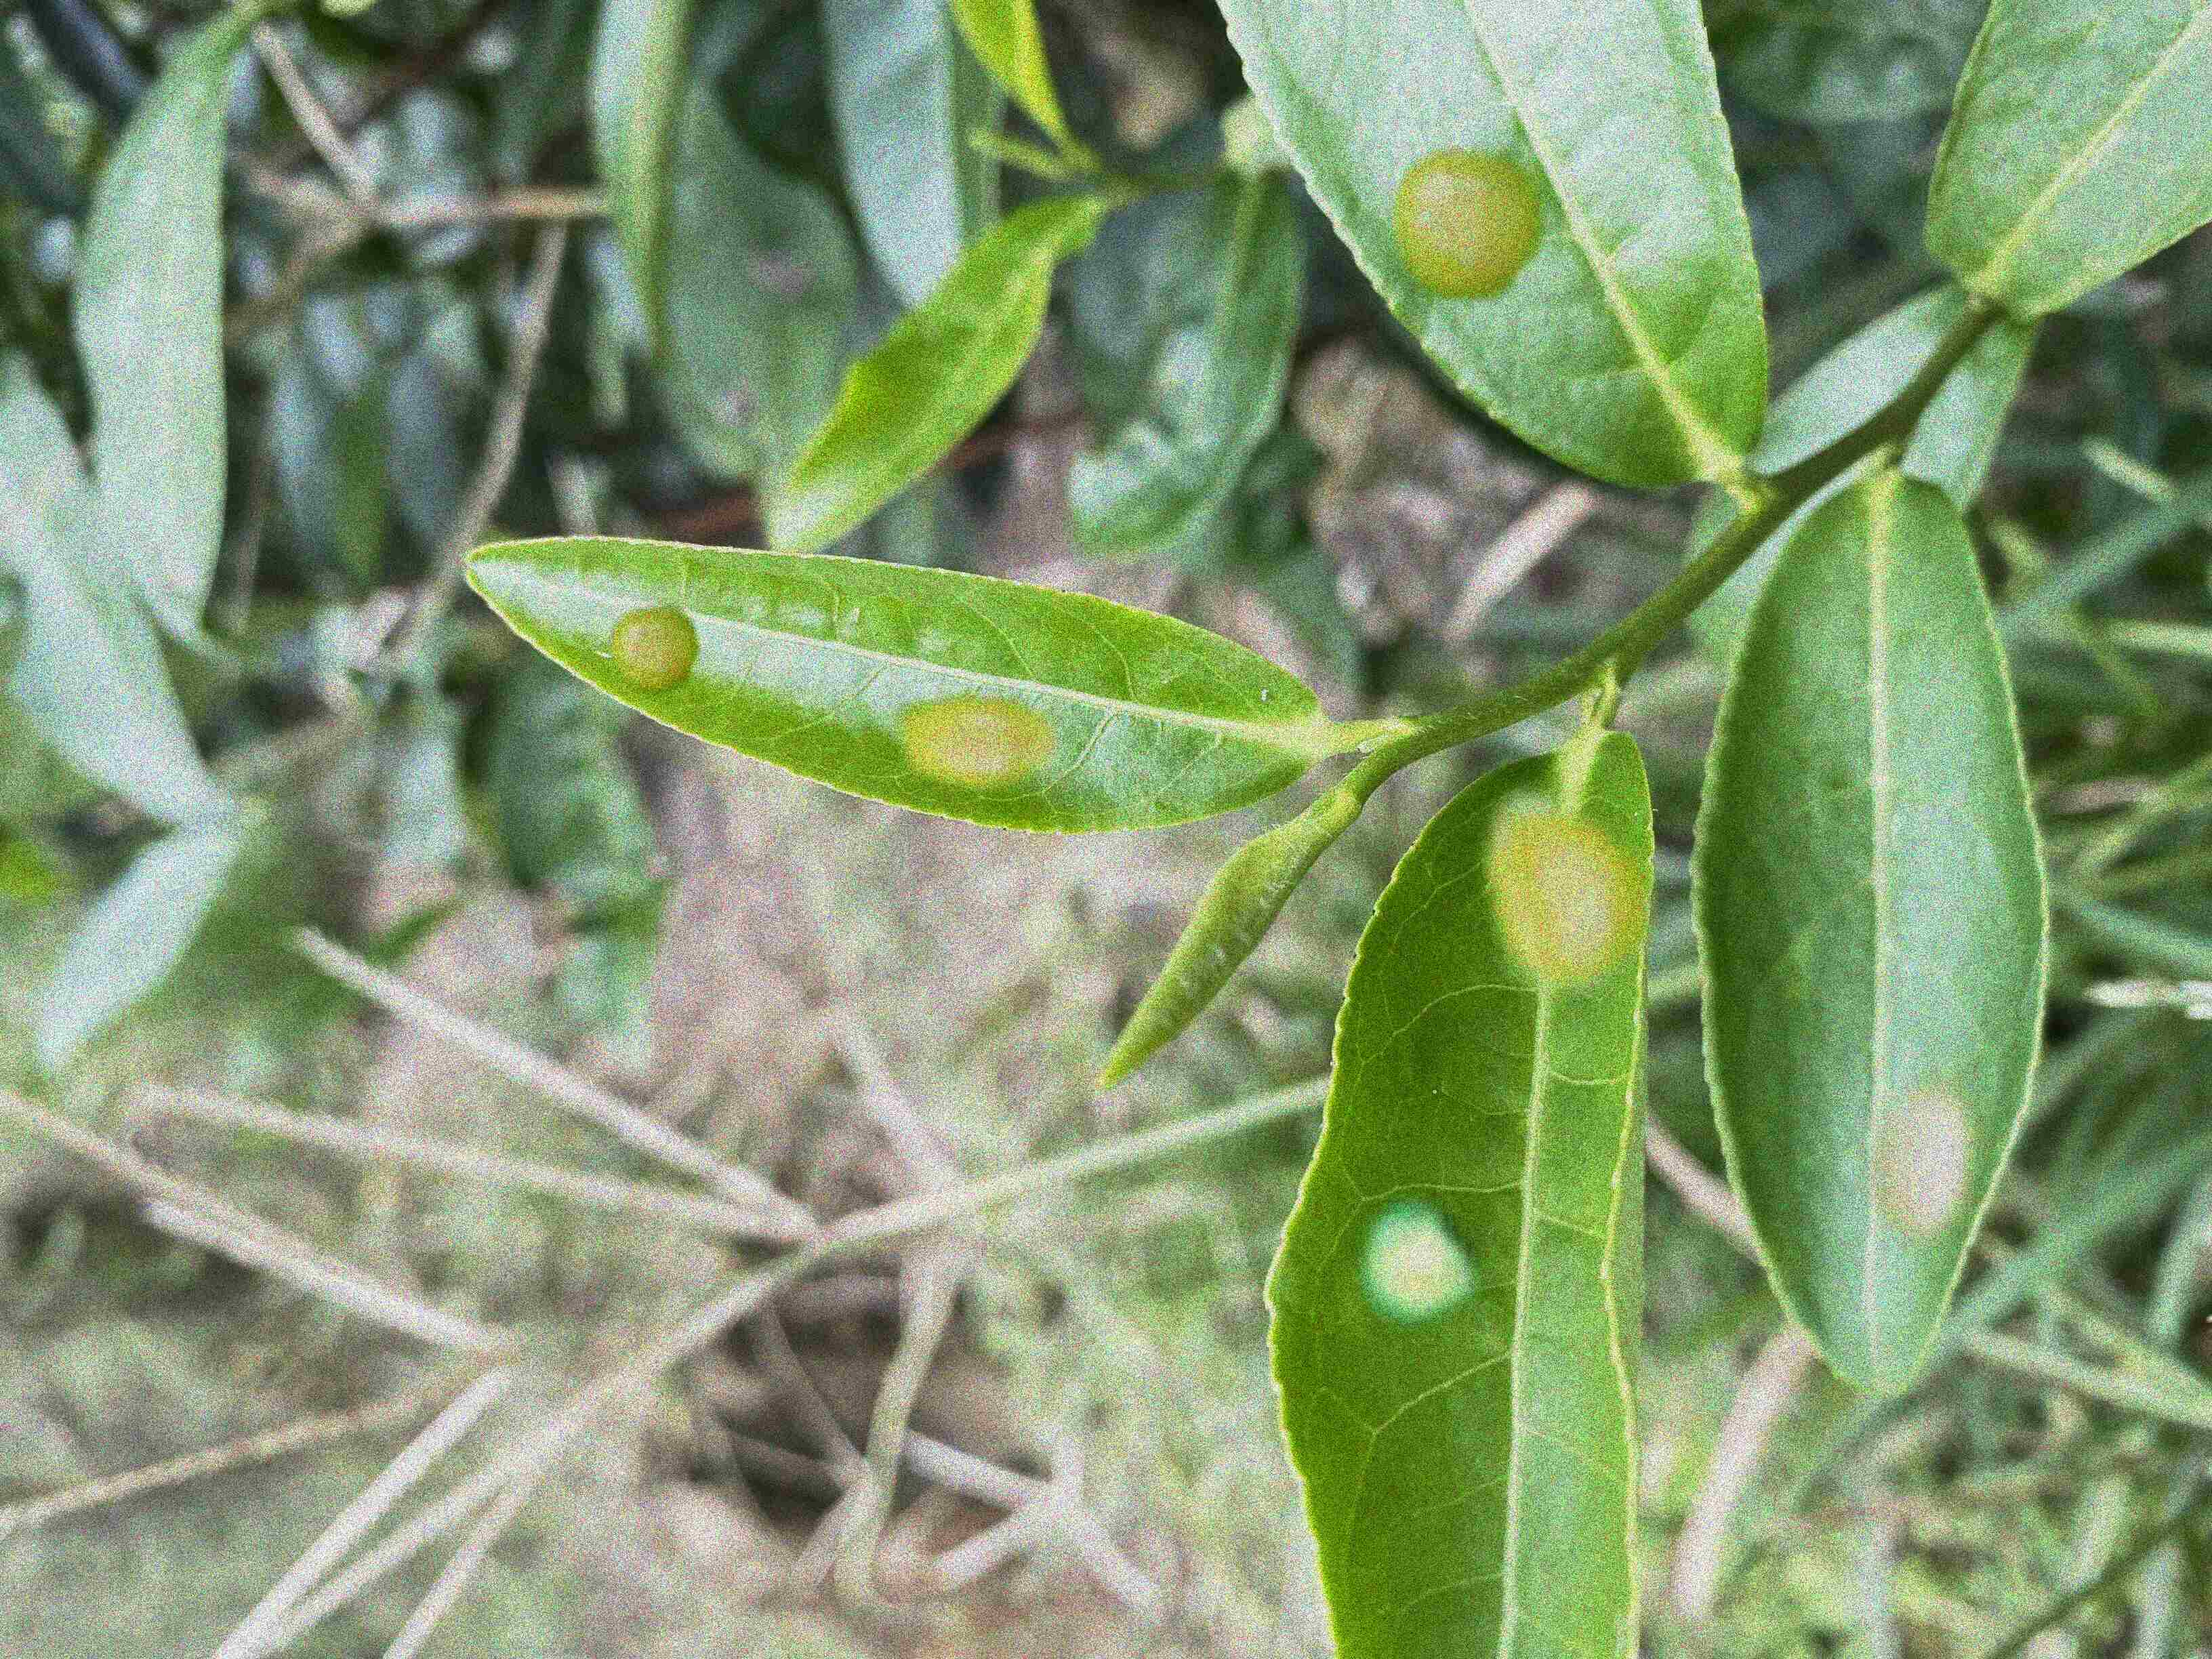chabing_high: (1264, 727, 1677, 1659), (458, 537, 1325, 835)
chabing_low: (1689, 469, 2050, 1396), (1211, 3, 1770, 495)
